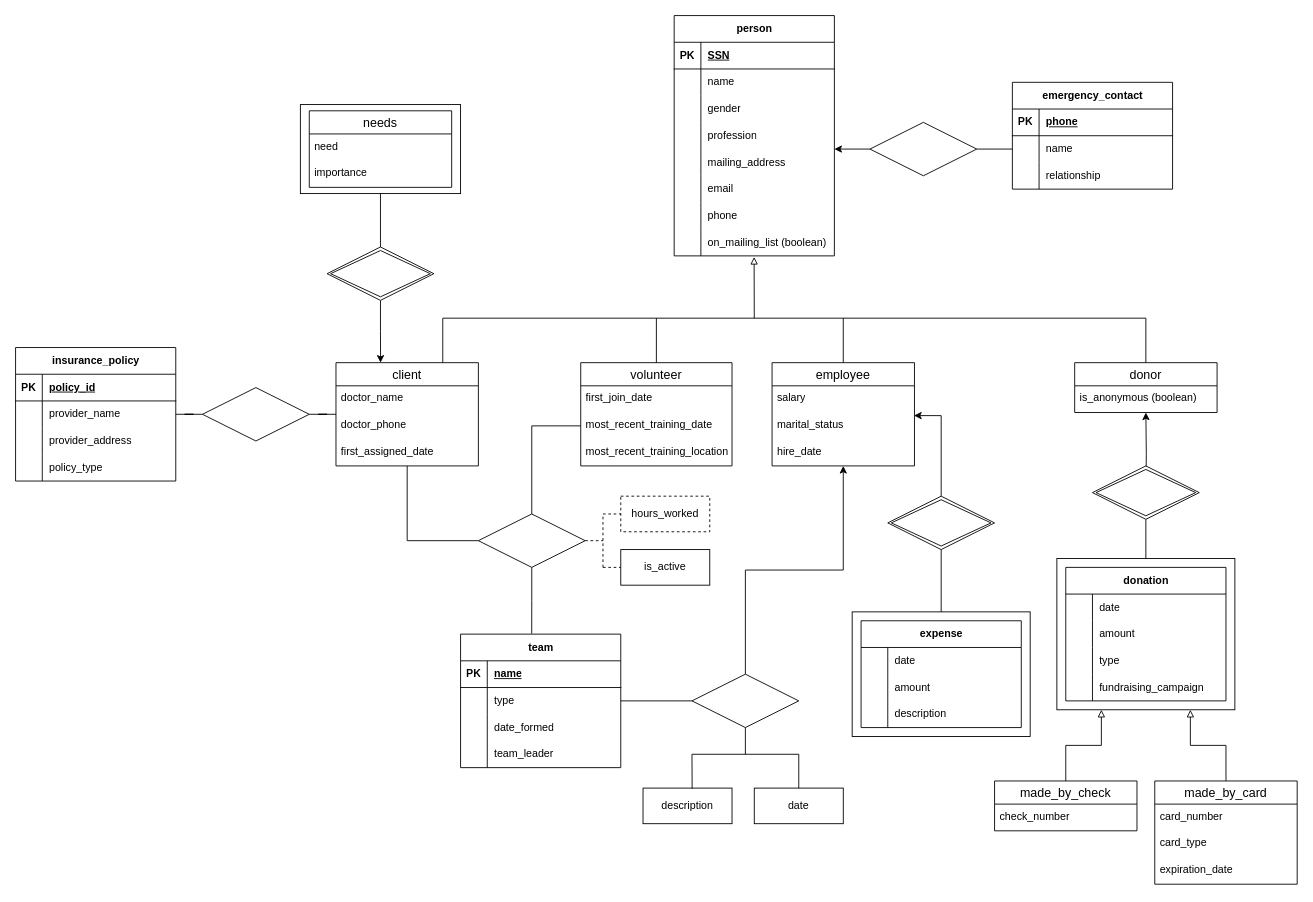
Some shapes in this 1313 by 902 pixel diagram are drawn without their labels. Each missing label, with the centre of its shape:
apart_of: point 531,540
has_contact: point 923,148
has_insurance: point 255,414
has_needs: point 380,273
logs_expense: point 941,522
makes: point 1145,492
submits_report: point 745,700
